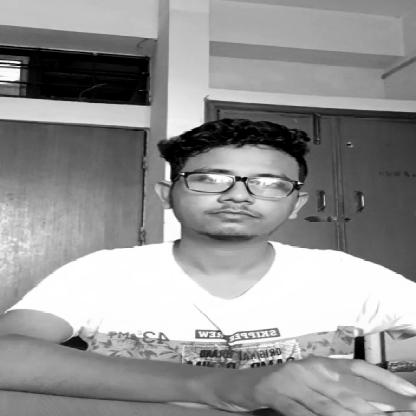Normal: (154, 109, 313, 251)
